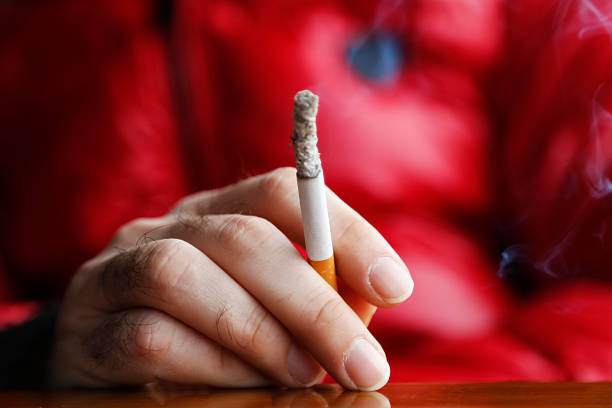cigarette: (291, 86, 338, 294)
